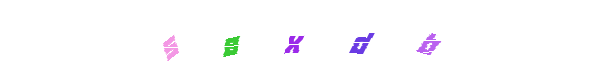5: (168, 0, 248, 80)
8: (191, 0, 271, 80)
B: (370, 0, 450, 80)
D: (293, 0, 373, 80)
X: (262, 0, 342, 80)
